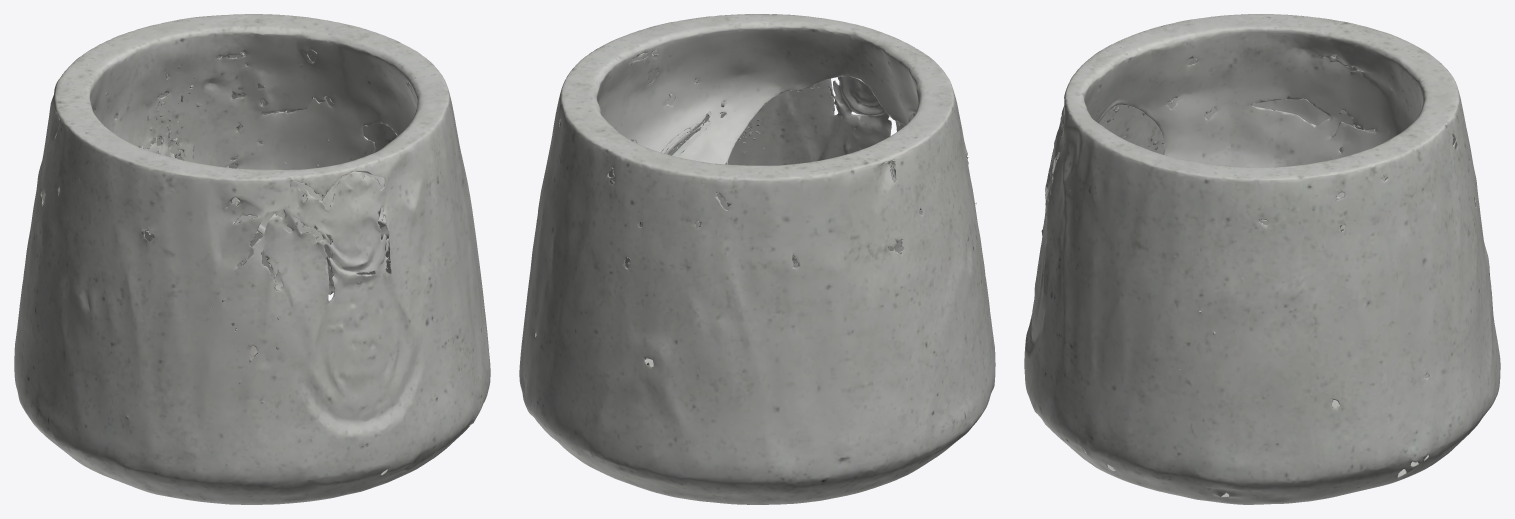
The model's file is tuva.glb.
The picture shows the model from 3 angles, left to right: view 1: azimuth 30°, elevation 25°; view 2: azimuth 150°, elevation 25°; view 3: azimuth 270°, elevation 25°; orthographic projection.
Parts seen in each view (by area): view 1: geometry_0; view 2: geometry_0; view 3: geometry_0.
Part boxes in pixels (left/top/right/bottom): geometry_0: left=14, top=14, right=490, bottom=504; geometry_0: left=519, top=14, right=995, bottom=504; geometry_0: left=1024, top=14, right=1500, bottom=504.
Bounding box in the file's own units: 0.9966 × 0.7664 × 1.
1 material, 1 textured.
